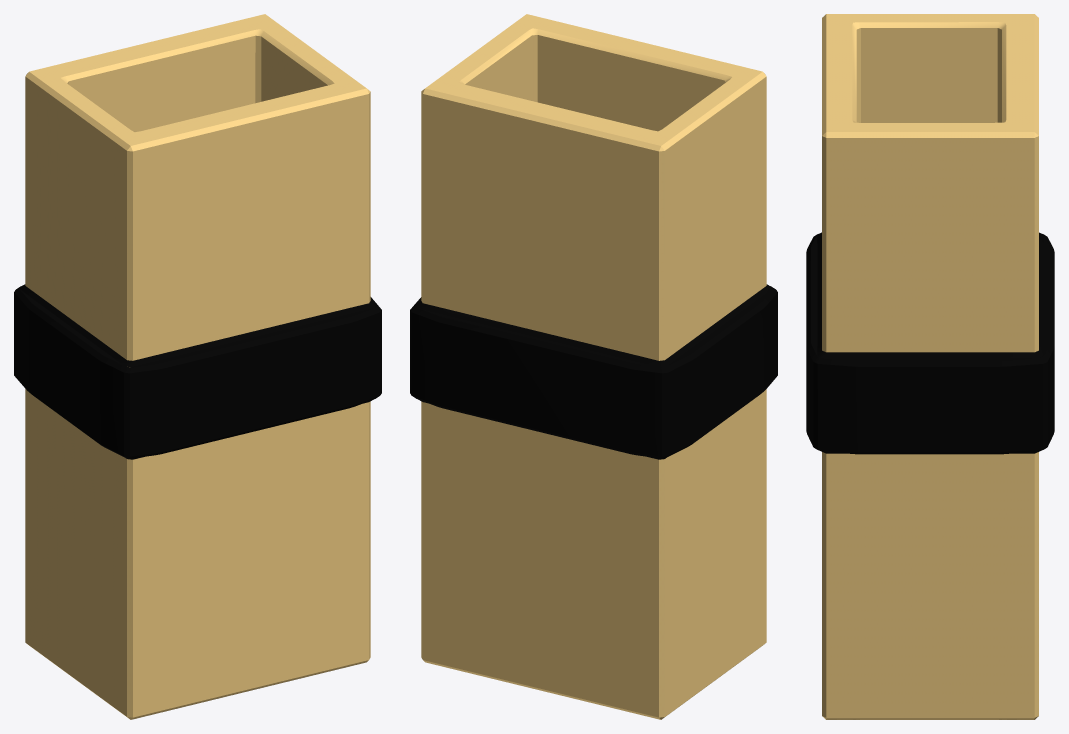
The model's file is Wall_Light.fbx.
3 renders of one model, left to right at view 1: azimuth 30°, elevation 25°; view 2: azimuth 150°, elevation 25°; view 3: azimuth 270°, elevation 25°, orthographic. The views are drawn at different scales.
Parts seen in each view (by area): view 1: body, belt; view 2: body, belt; view 3: body, belt.
Boxes of the visible parts, x1,y1,x2,y2 form: body: [25, 14, 370, 719]; belt: [14, 284, 381, 459]; body: [421, 14, 766, 719]; belt: [410, 284, 777, 459]; body: [822, 14, 1038, 719]; belt: [806, 232, 1054, 454].
Bounding box in the file's own units: 20.61 × 41.89 × 16.02.
2 materials, 1 textured.
